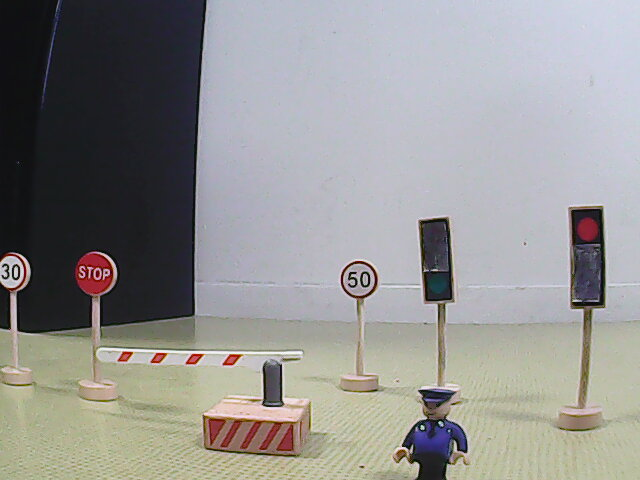barrier: (92, 345, 314, 455)
green_traffic_sign: (419, 219, 454, 303)
person: (391, 387, 476, 479)
red_traffic_sign: (568, 207, 604, 309)
sign_30: (1, 254, 32, 291)
sign_50: (341, 260, 378, 299)
stop_sign: (75, 251, 115, 296)
